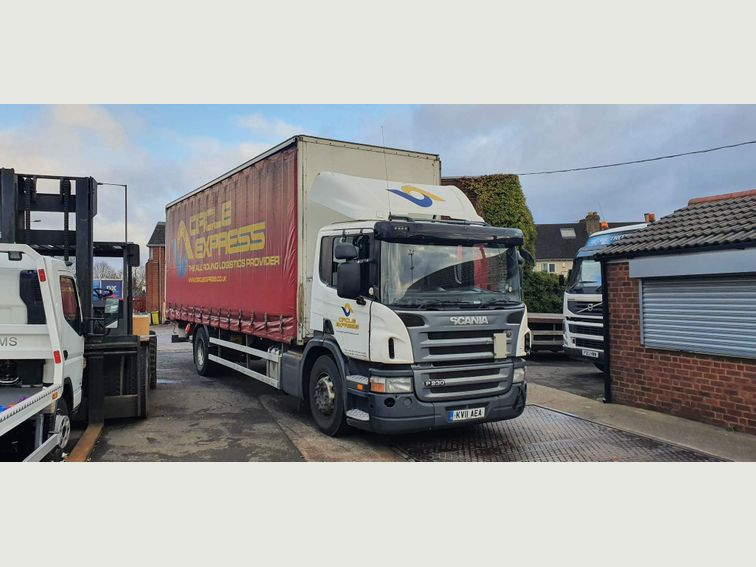Semi: (163, 134, 530, 434)
